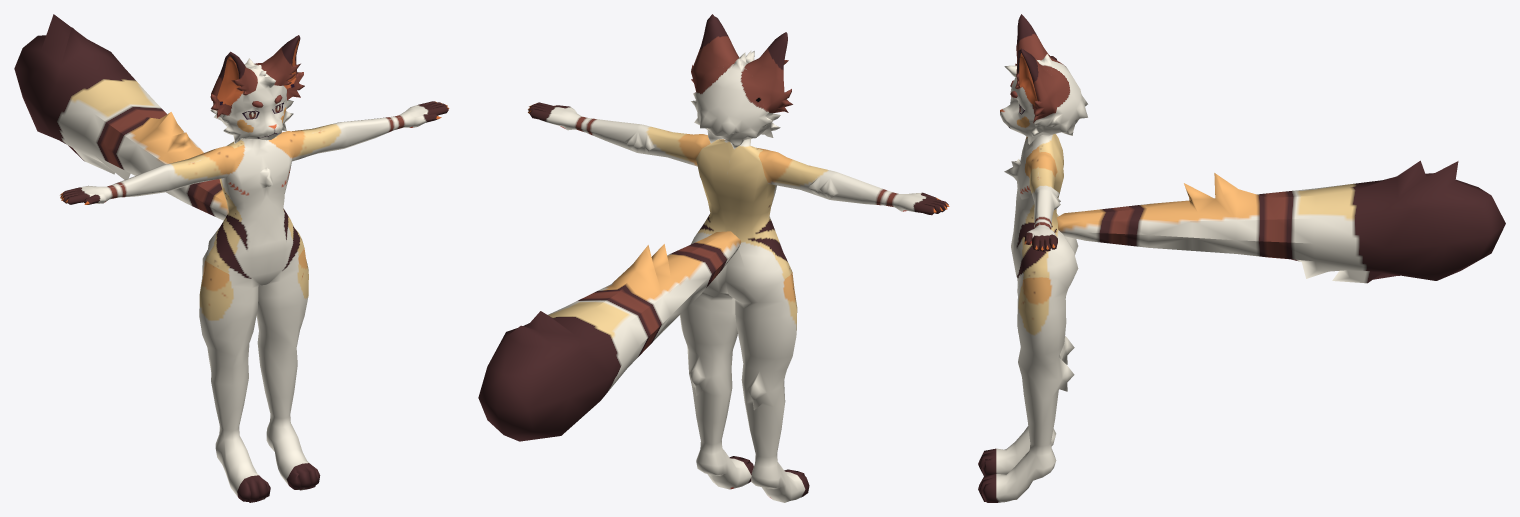
Rendered from Ban.obj.
The picture shows the model from 3 angles, left to right: view 1: azimuth 30°, elevation 25°; view 2: azimuth 150°, elevation 25°; view 3: azimuth 270°, elevation 25°; orthographic projection. The views are drawn at different scales.
Visible parts, largest first — view 1: Body geo, geo Tail, geo Head; view 2: Body geo, geo Tail, geo Head; view 3: geo Tail, Body geo, geo Head.
Part boxes in pixels (x1=…): Body geo: x1=60, y1=101, x2=449, y2=502; geo Tail: x1=14, y1=14, x2=228, y2=220; geo Head: x1=210, y1=35, x2=304, y2=143; Body geo: x1=528, y1=102, x2=949, y2=502; geo Tail: x1=478, y1=231, x2=741, y2=441; geo Head: x1=691, y1=14, x2=792, y2=149; geo Tail: x1=1056, y1=160, x2=1505, y2=283; Body geo: x1=978, y1=55, x2=1078, y2=502; geo Head: x1=1000, y1=14, x2=1087, y2=144.
Bounding box in the file's own units: 9 × 9.74 × 10.26.
Materials: 2 (2 with a texture image).
